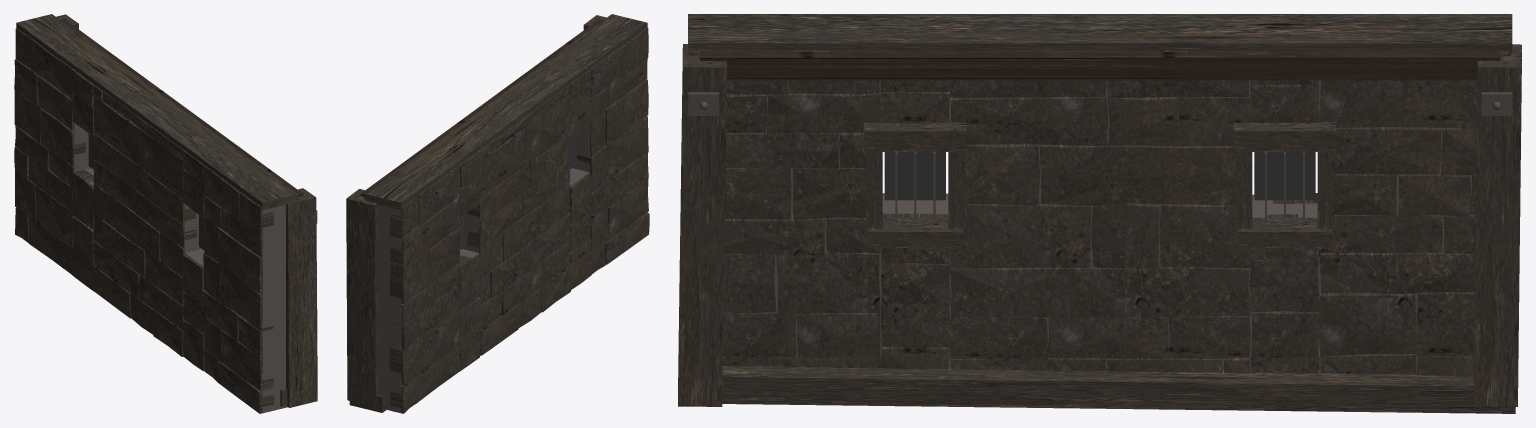
The model's file is wall_right_preview.glb.
The picture shows the model from 3 angles, left to right: view 1: azimuth 30°, elevation 25°; view 2: azimuth 150°, elevation 25°; view 3: azimuth 270°, elevation 25°; orthographic projection. The views are drawn at different scales.
Parts seen in each view (by area): view 1: ASSET_RIGHT_RIGHT_roof_bedding_stone, ASSET_RIGHT_RIGHT_load_corner_-1, ASSET_RIGHT_RIGHT_solid_0_structural, ASSET_RIGHT_RIGHT_solid_2_InteriorPBR_6_0, ASSET_RIGHT_RIGHT_solid_2_InteriorPBR_6_1, ASSET_RIGHT_RIGHT_solid_0_InteriorPBR_4_0, ASSET_RIGHT_RIGHT_solid_0_InteriorPBR_3_0, ASSET_RIGHT_RIGHT_solid_0_InteriorPBR_1_0, ASSET_RIGHT_RIGHT_solid_2_InteriorPBR_3_1, ASSET_RIGHT_RIGHT_solid_4_InteriorPBR_1_0, ASSET_RIGHT_RIGHT_solid_4_InteriorPBR_4_0, ASSET_RIGHT_RIGHT_solid_2_InteriorPBR_5_1 (+51 smaller); view 2: ASSET_RIGHT_RIGHT_roof_bedding_stone, ASSET_RIGHT_RIGHT_load_corner_1, ASSET_RIGHT_RIGHT_solid_4_structural, ASSET_RIGHT_RIGHT_solid_2_InteriorPBR_6_0, ASSET_RIGHT_RIGHT_solid_2_InteriorPBR_6_1, ASSET_RIGHT_RIGHT_solid_0_InteriorPBR_4_0, ASSET_RIGHT_RIGHT_solid_0_InteriorPBR_3_0, ASSET_RIGHT_RIGHT_solid_2_InteriorPBR_5_1, ASSET_RIGHT_RIGHT_solid_2_InteriorPBR_3_1, ASSET_RIGHT_RIGHT_solid_0_InteriorPBR_1_0, ASSET_RIGHT_RIGHT_solid_4_InteriorPBR_1_0, ASSET_RIGHT_RIGHT_solid_4_InteriorPBR_6_0 (+52 smaller); view 3: ASSET_RIGHT_RIGHT_roof_bedding_stone, ASSET_RIGHT_RIGHT_continuous_plinth, ASSET_RIGHT_RIGHT_wall_plate, ASSET_RIGHT_RIGHT_load_corner_-1, ASSET_RIGHT_RIGHT_load_corner_1, ASSET_RIGHT_RIGHT_solid_2_stone_3_0, ASSET_RIGHT_RIGHT_solid_2_stone_5_0, ASSET_RIGHT_RIGHT_solid_4_stone_6_0, ASSET_RIGHT_RIGHT_solid_2_stone_4_2, ASSET_RIGHT_RIGHT_solid_0_stone_2_1, ASSET_RIGHT_RIGHT_solid_4_stone_1_0, ASSET_RIGHT_RIGHT_solid_2_stone_2_0 (+66 smaller).
Part boxes in pixels (x1,y1,x2,y2): ASSET_RIGHT_RIGHT_roof_bedding_stone: (16,14,298,210); ASSET_RIGHT_RIGHT_load_corner_-1: (286,188,317,407); ASSET_RIGHT_RIGHT_solid_0_structural: (240,205,287,413); ASSET_RIGHT_RIGHT_solid_2_InteriorPBR_6_0: (137,127,184,198); ASSET_RIGHT_RIGHT_solid_2_InteriorPBR_6_1: (93,96,138,165); ASSET_RIGHT_RIGHT_solid_0_InteriorPBR_4_0: (217,227,262,294); ASSET_RIGHT_RIGHT_solid_0_InteriorPBR_3_0: (219,266,273,331); ASSET_RIGHT_RIGHT_solid_0_InteriorPBR_1_0: (220,330,273,390); ASSET_RIGHT_RIGHT_solid_2_InteriorPBR_3_1: (115,199,160,260); ASSET_RIGHT_RIGHT_solid_4_InteriorPBR_1_0: (35,185,73,247); ASSET_RIGHT_RIGHT_solid_4_InteriorPBR_4_0: (40,109,85,166); ASSET_RIGHT_RIGHT_solid_2_InteriorPBR_5_1: (94,133,143,195); ASSET_RIGHT_RIGHT_roof_bedding_stone: (365,14,647,210); ASSET_RIGHT_RIGHT_load_corner_1: (346,189,377,407); ASSET_RIGHT_RIGHT_solid_4_structural: (378,204,402,412); ASSET_RIGHT_RIGHT_solid_2_InteriorPBR_6_0: (524,95,570,165); ASSET_RIGHT_RIGHT_solid_2_InteriorPBR_6_1: (480,128,525,197); ASSET_RIGHT_RIGHT_solid_0_InteriorPBR_4_0: (605,79,648,145); ASSET_RIGHT_RIGHT_solid_0_InteriorPBR_3_0: (607,116,648,181); ASSET_RIGHT_RIGHT_solid_2_InteriorPBR_5_1: (468,163,529,224); ASSET_RIGHT_RIGHT_solid_2_InteriorPBR_3_1: (502,200,548,261); ASSET_RIGHT_RIGHT_solid_0_InteriorPBR_1_0: (608,179,648,239); ASSET_RIGHT_RIGHT_solid_4_InteriorPBR_1_0: (423,309,460,370); ASSET_RIGHT_RIGHT_solid_4_InteriorPBR_6_0: (417,165,460,226); ASSET_RIGHT_RIGHT_roof_bedding_stone: (688,14,1512,53); ASSET_RIGHT_RIGHT_continuous_plinth: (722,360,1515,413); ASSET_RIGHT_RIGHT_wall_plate: (700,50,1500,80); ASSET_RIGHT_RIGHT_load_corner_-1: (678,44,726,406); ASSET_RIGHT_RIGHT_load_corner_1: (1473,44,1521,406); ASSET_RIGHT_RIGHT_solid_2_stone_3_0: (950,200,1091,268); ASSET_RIGHT_RIGHT_solid_2_stone_5_0: (951,92,1107,145); ASSET_RIGHT_RIGHT_solid_4_stone_6_0: (1319,80,1460,127); ASSET_RIGHT_RIGHT_solid_2_stone_4_2: (1125,145,1235,205); ASSET_RIGHT_RIGHT_solid_0_stone_2_1: (776,247,880,314); ASSET_RIGHT_RIGHT_solid_4_stone_1_0: (1319,290,1416,356); ASSET_RIGHT_RIGHT_solid_2_stone_2_0: (950,263,1068,317).
Size of the model in its own units: 0.9862 by 3.32 by 7.08.
Materials: 7 (4 with a texture image).
